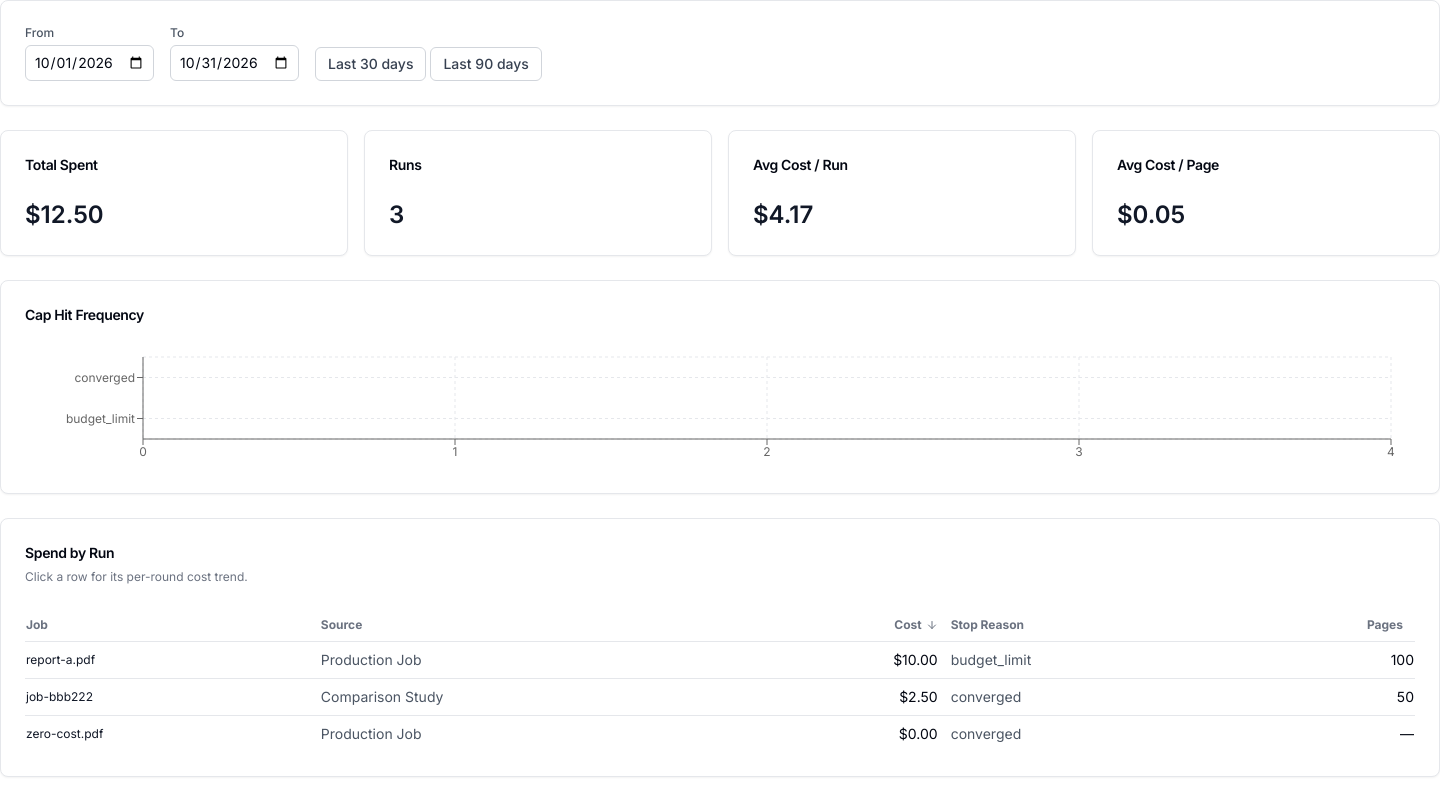
Scenario: CostTab › opens the drill-down dialog when a row is clicked
Click the text "report-a.pdf" at [61, 660], box [25,642,320,678]
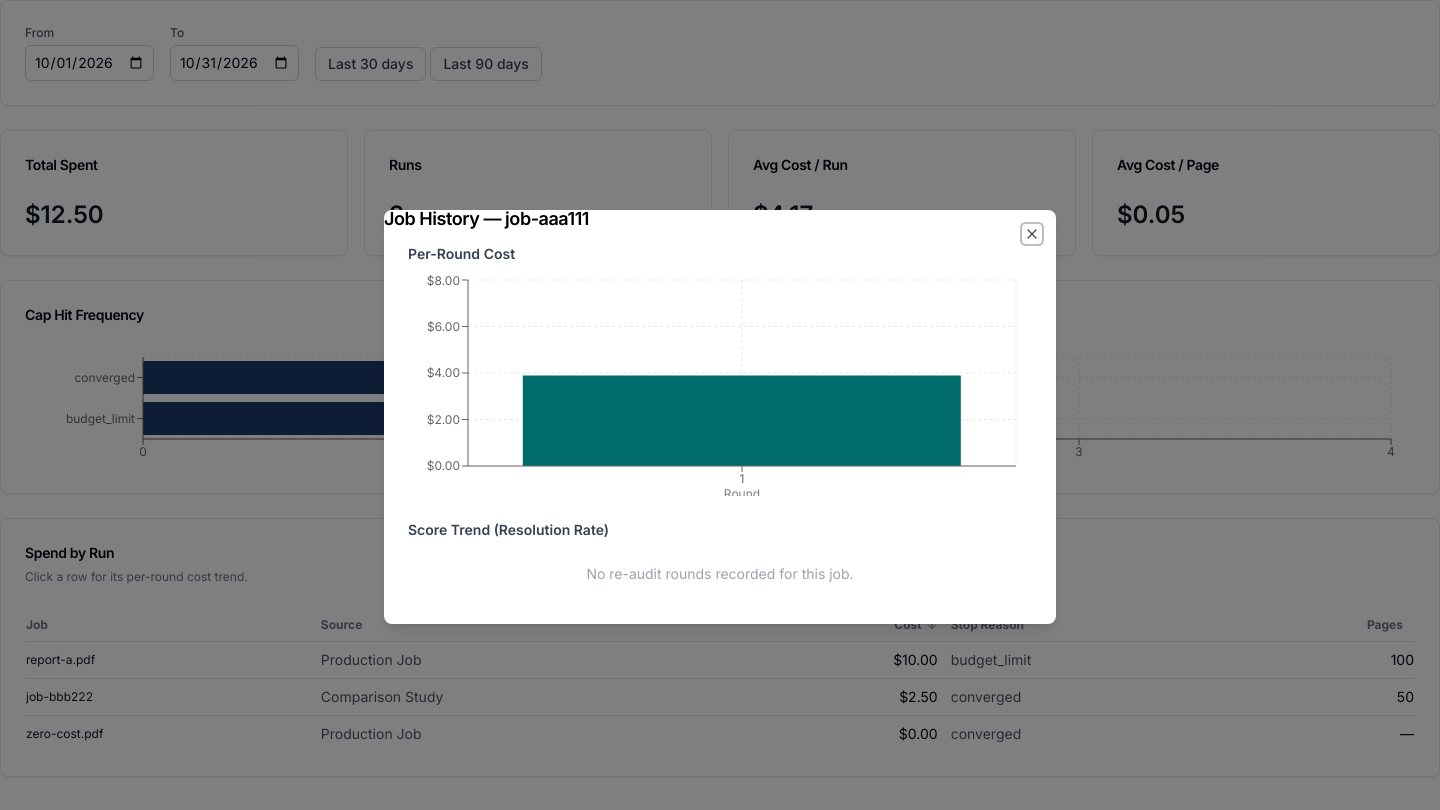
Check: the heading "Job History — job-aaa111" is shown, box [384,210,589,229]
Check: the heading "Per-Round Cost" is shown, box [408,245,515,262]
Check: the heading "Score Trend (Resolution Rate)" is shown, box [408,521,609,538]
